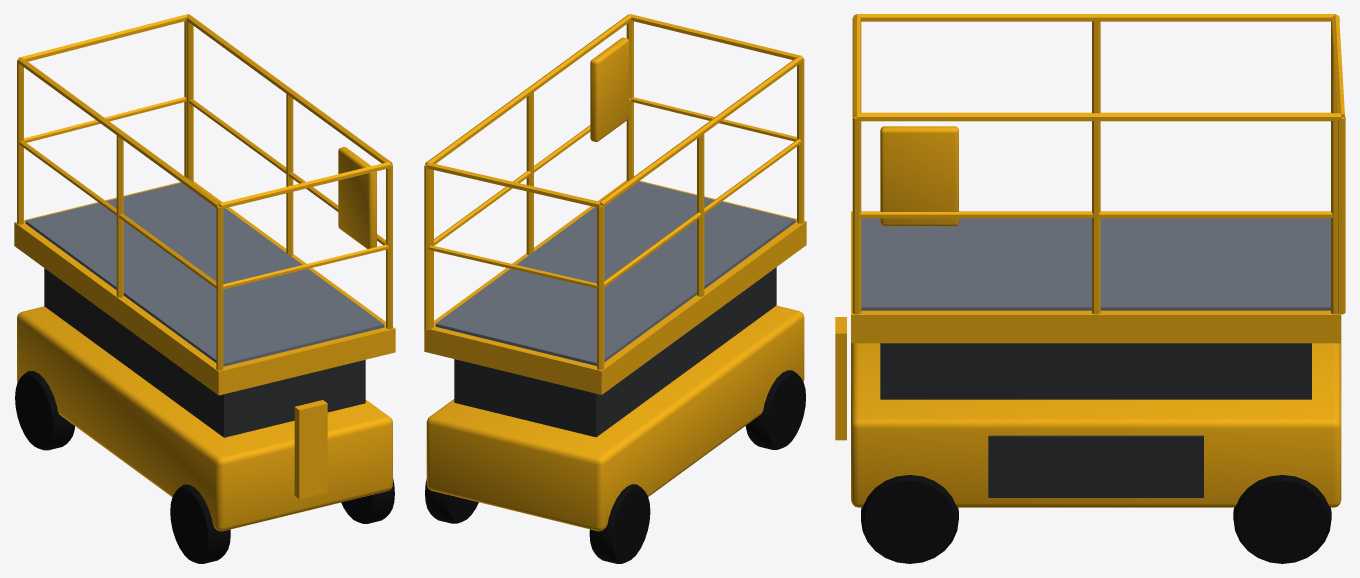
File: plant.access.scissor_lift_stowed.glb
3 renders of one model, left to right at view 1: azimuth 30°, elevation 25°; view 2: azimuth 150°, elevation 25°; view 3: azimuth 270°, elevation 25°, orthographic. The views are drawn at different scales.
Parts seen in each view (by area): view 1: base__plant_yellow, platform__plant_yellow, platform__steel_painted, scissors__steel_dark, base__rubber; view 2: base__plant_yellow, platform__plant_yellow, platform__steel_painted, scissors__steel_dark, base__rubber; view 3: platform__plant_yellow, platform__steel_painted, base__plant_yellow, scissors__steel_dark, base__rubber, base__steel_dark.
Boxes of the visible parts, bbox=[...] form: base__plant_yellow: bbox=[17, 306, 392, 531]; platform__plant_yellow: bbox=[14, 14, 395, 395]; platform__steel_painted: bbox=[25, 182, 384, 366]; scissors__steel_dark: bbox=[44, 268, 365, 437]; base__rubber: bbox=[15, 371, 394, 563]; base__plant_yellow: bbox=[426, 305, 804, 531]; platform__plant_yellow: bbox=[424, 14, 806, 394]; platform__steel_painted: bbox=[435, 181, 795, 365]; scissors__steel_dark: bbox=[454, 267, 776, 437]; base__rubber: bbox=[425, 370, 805, 563]; platform__plant_yellow: bbox=[851, 14, 1345, 343]; platform__steel_painted: bbox=[861, 218, 1330, 310]; base__plant_yellow: bbox=[835, 317, 1341, 507]; scissors__steel_dark: bbox=[880, 343, 1311, 399]; base__rubber: bbox=[861, 475, 1331, 563]; base__steel_dark: bbox=[988, 435, 1203, 497].
Bounding box in the file's own units: 1.32 × 2.52 × 2.6.
